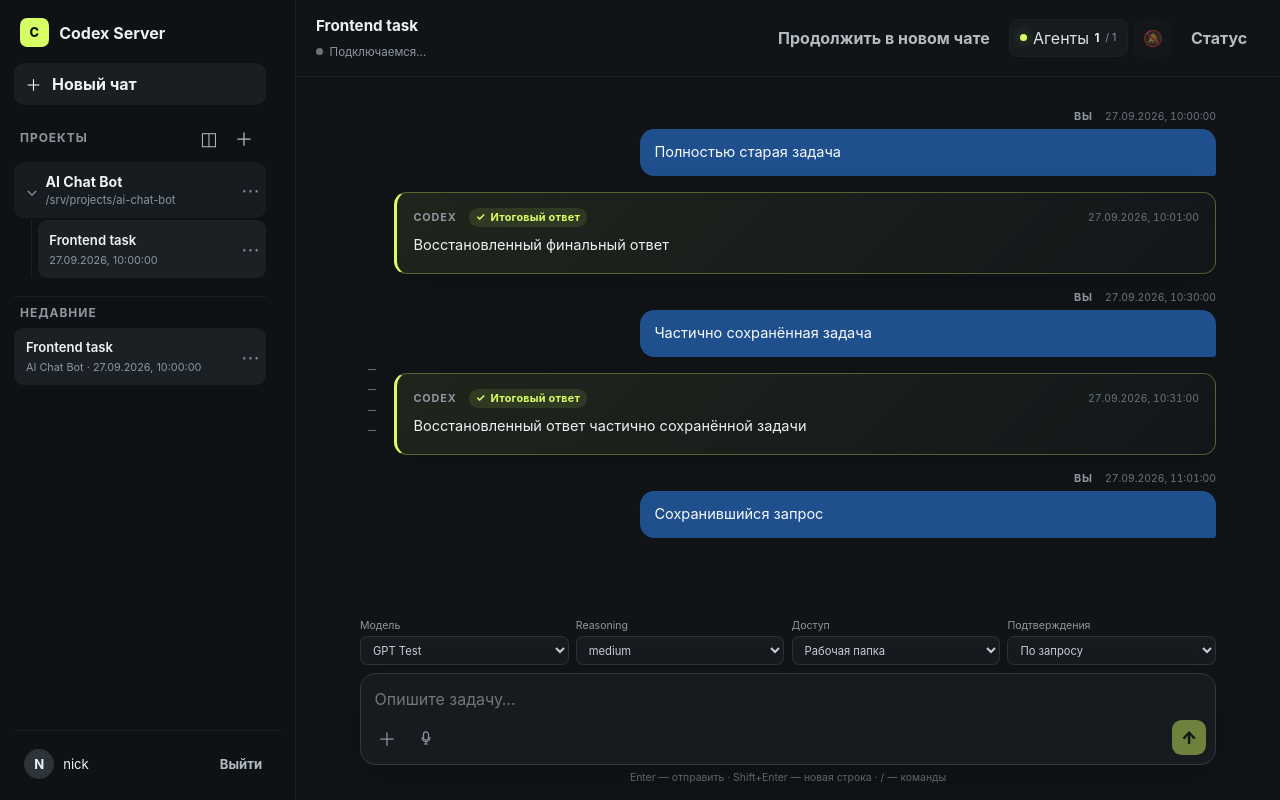
Test case: App › offers targeted recovery when the only task is outside the loaded transcript
Click the button named "Перейти к задаче 1: Единственная старая задача" at (372, 369), box [360,360,384,378]
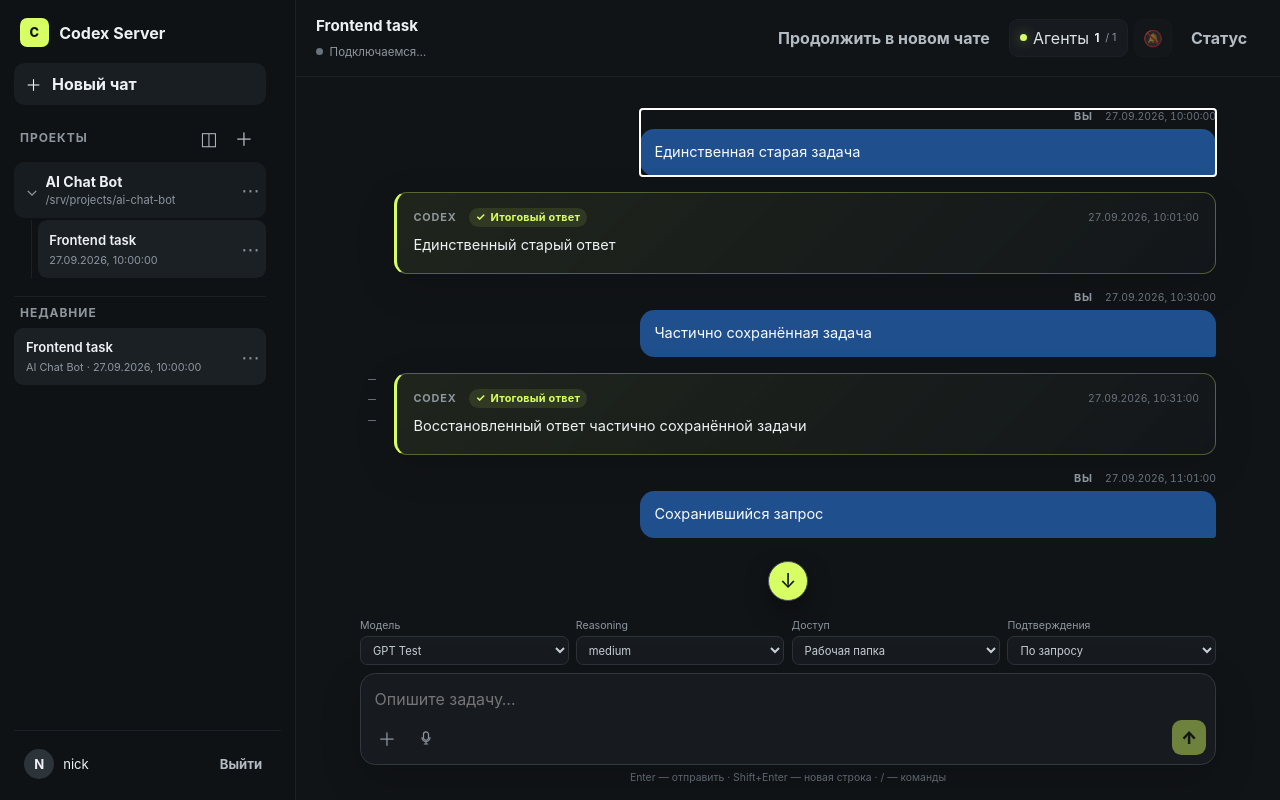
Now the text "Единственный старый ответ" is shown, box [413,236,616,254]
